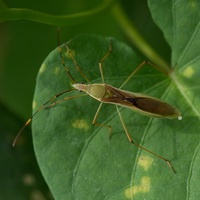insect: (12, 39, 181, 145)
